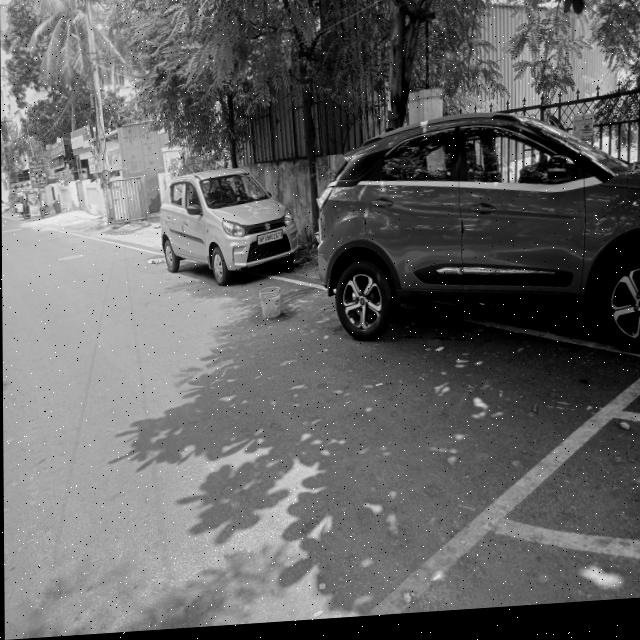car: (308, 117, 640, 378), (153, 156, 303, 304)
